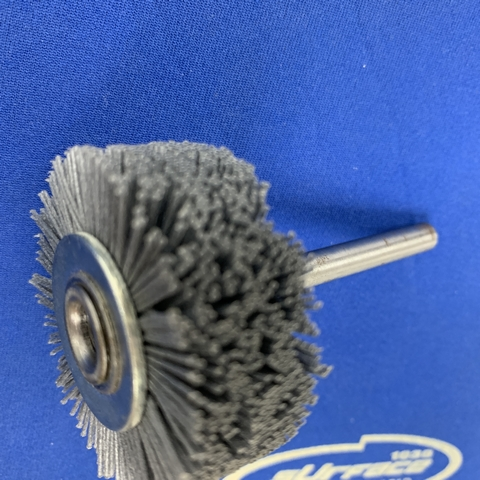Wheel Brush: (14, 140, 454, 480), (40, 145, 435, 480), (42, 136, 440, 446), (48, 138, 402, 480)
